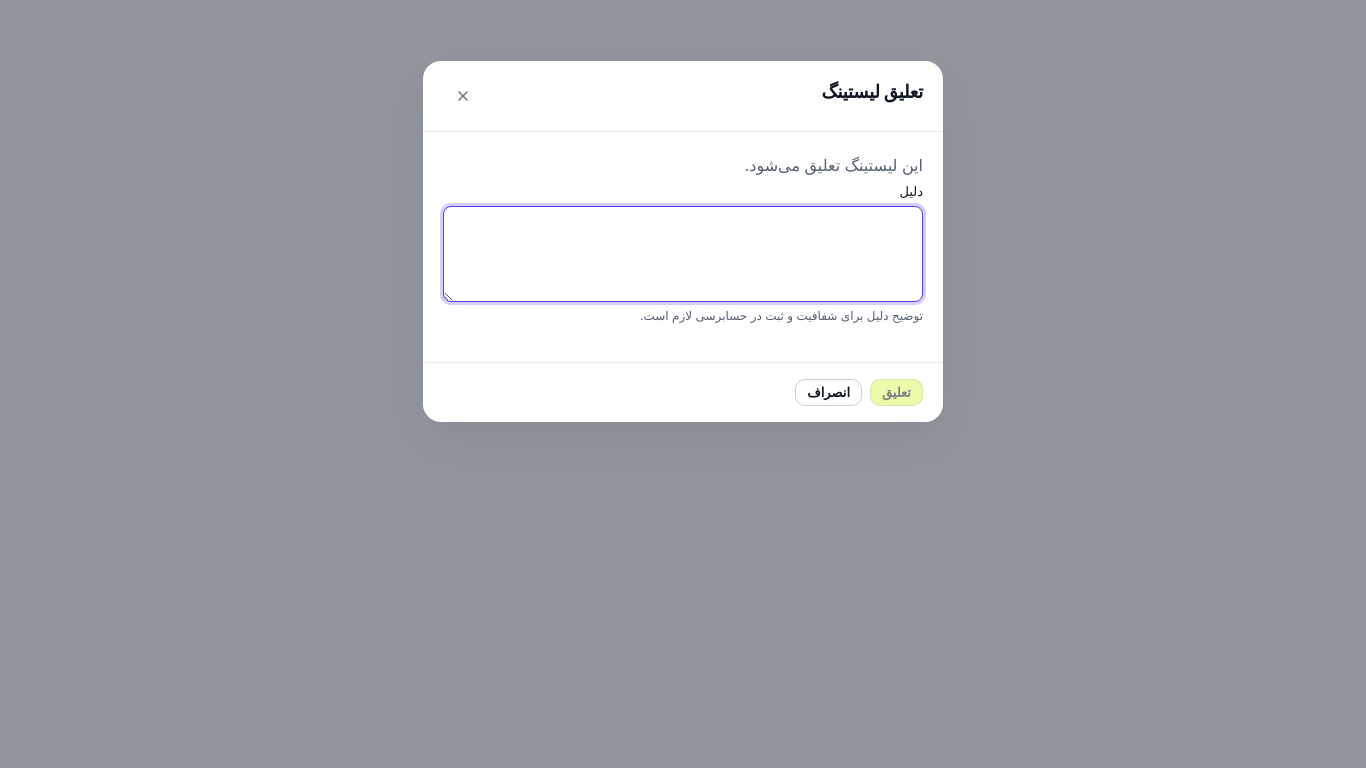
ConfirmDialog › keeps confirm disabled until a reason of 3+ chars is entered when reasonRequired
The image size is (1366, 768).
expect the button "تعلیق" is disabled: met, box [870,379,923,406]
Type "ab" into the text box at [683, 254], box [443,206,923,302]
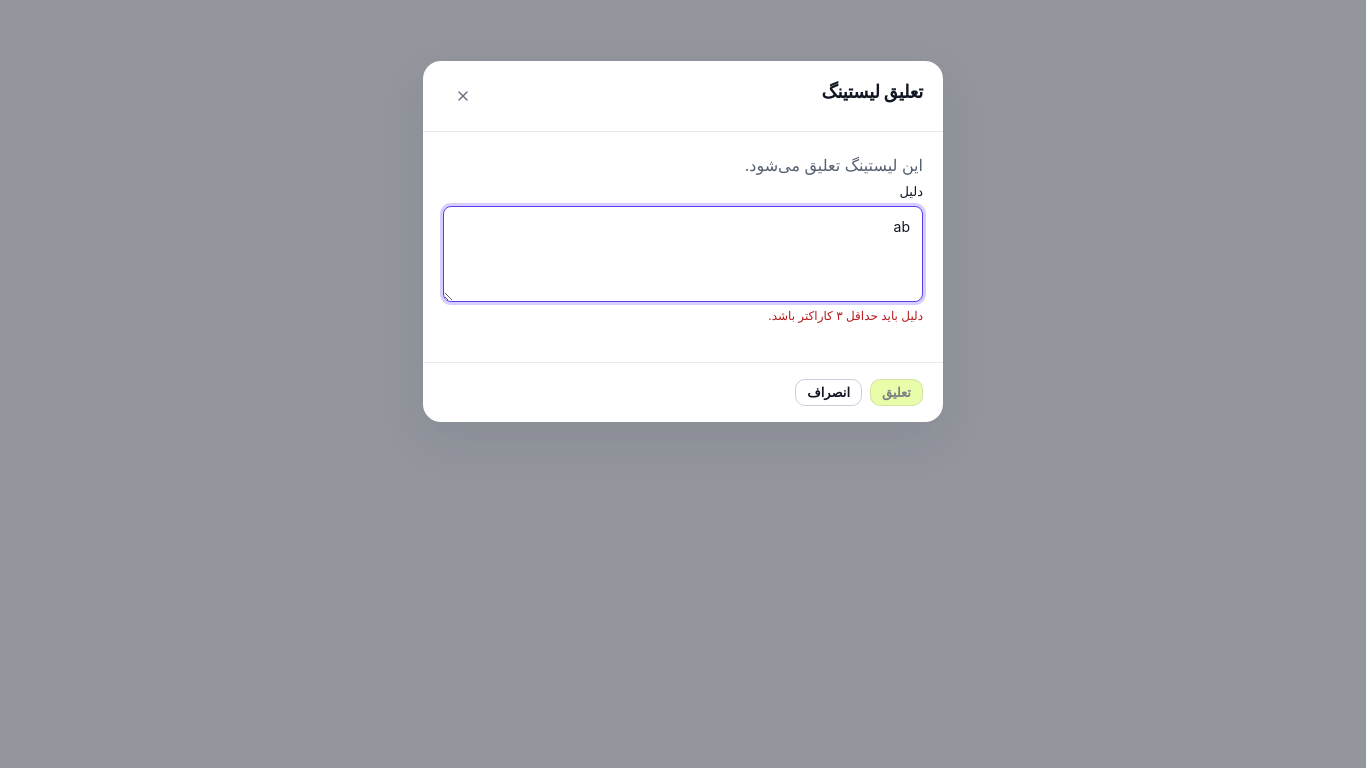
expect the button "تعلیق" is disabled: met, box [870,379,923,406]
Replace the text in the text box with "نقض سیاست محتوا" at [683, 254], box [443,206,923,302]
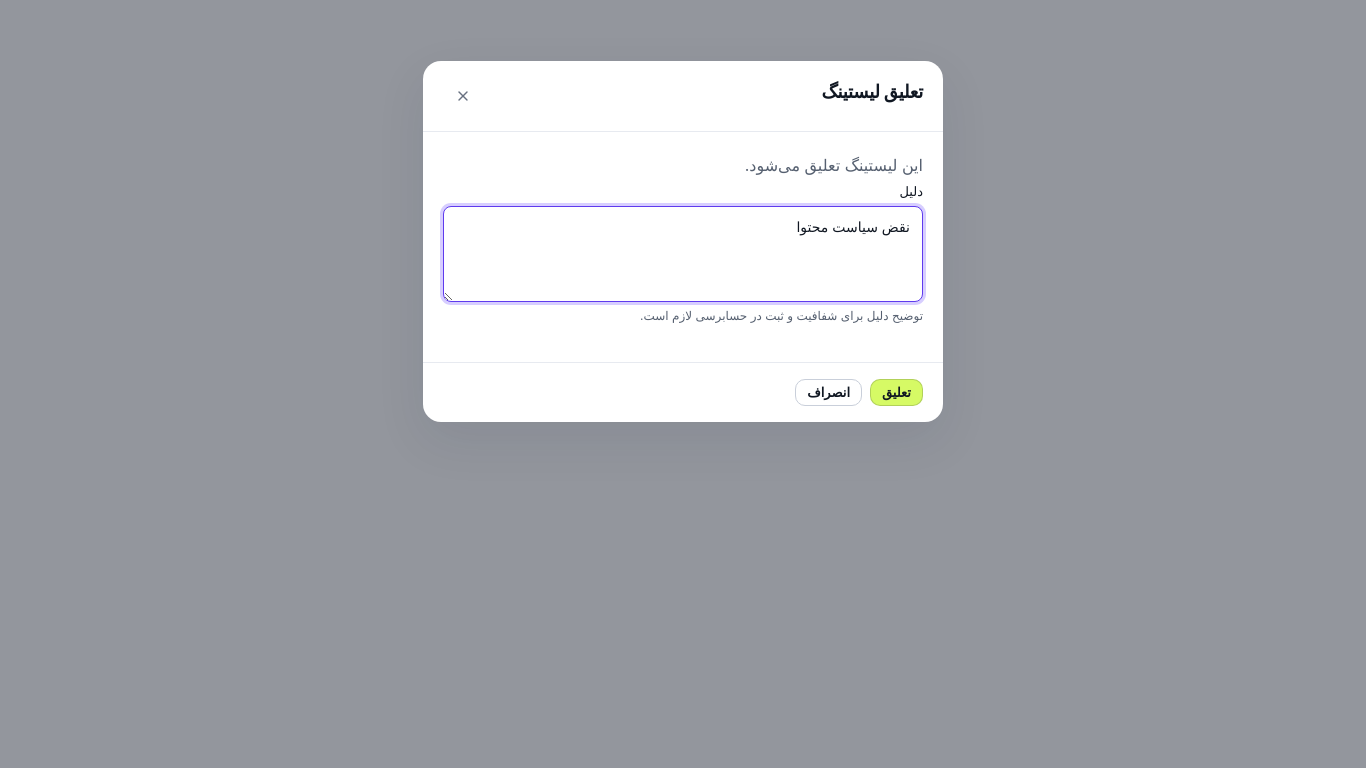
expect the button "تعلیق" is enabled: met, box [870,379,923,406]
